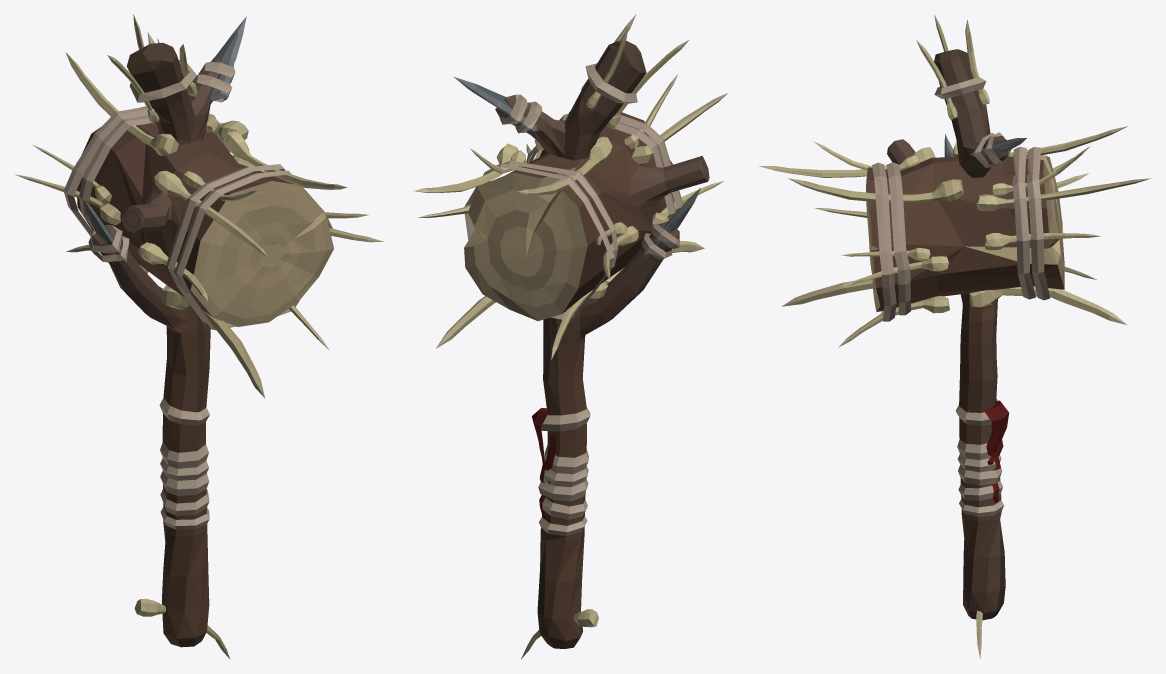
Rendered from bluntLightTribeHammer.glb.
3 views of the same model, side by side, from view 1: azimuth 30°, elevation 25°; view 2: azimuth 150°, elevation 25°; view 3: azimuth 270°, elevation 25° (orthographic). The views are drawn at different scales.
Parts seen in each view (by area): view 1: bluntLightTribeHammer; view 2: bluntLightTribeHammer; view 3: bluntLightTribeHammer.
Boxes of the visible parts, box(x1,y1,x2,y2) form: bluntLightTribeHammer: box(15, 14, 384, 659); bluntLightTribeHammer: box(413, 15, 727, 658); bluntLightTribeHammer: box(757, 14, 1150, 658).
Bounding box in the file's own units: 0.3295 × 0.8831 × 0.5295.
